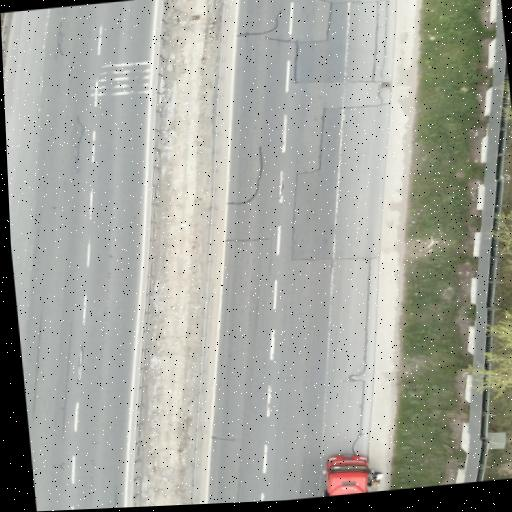person: (373, 471, 383, 479)
truck: (324, 454, 382, 496)
